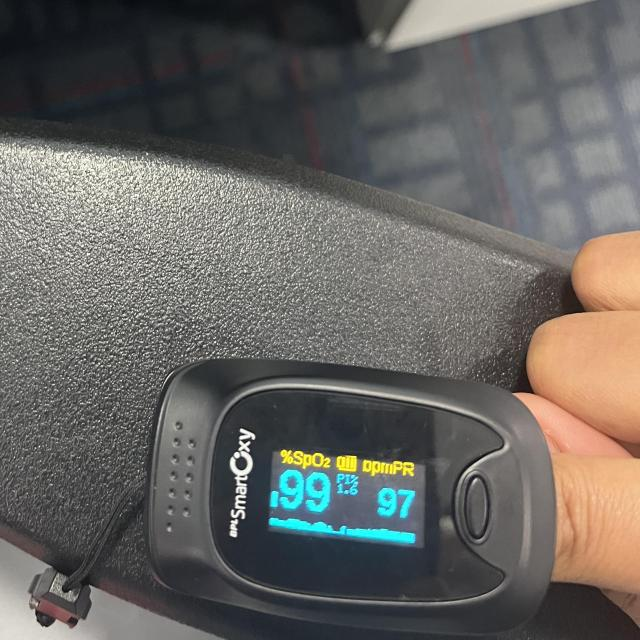spo2: (143, 361, 555, 639)
